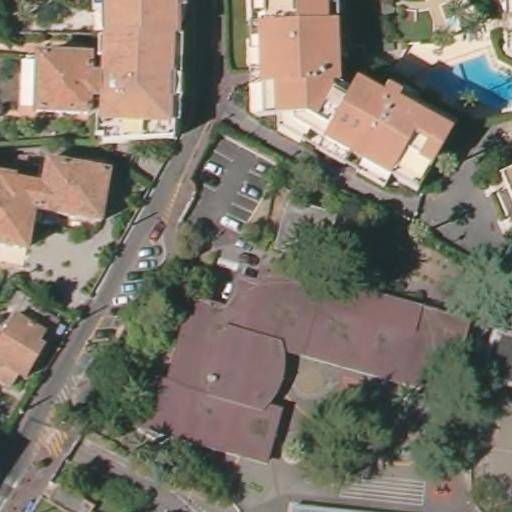pool: (412, 51, 511, 113)
